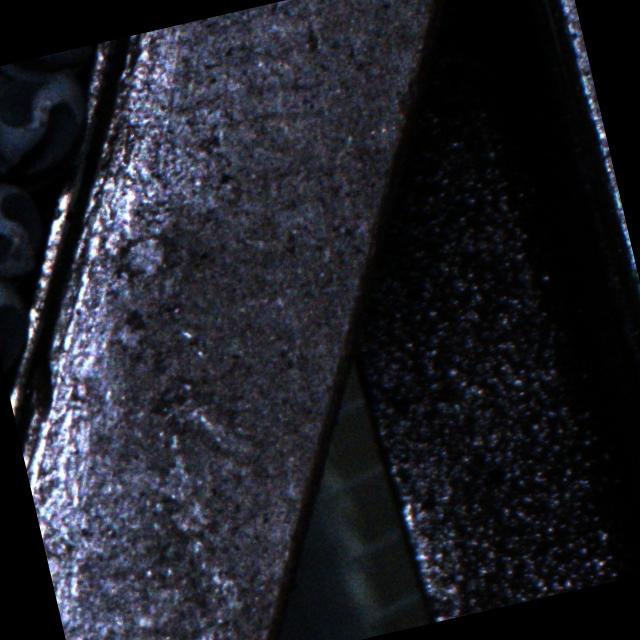tool_b: (0, 57, 98, 199), (0, 162, 53, 287)
